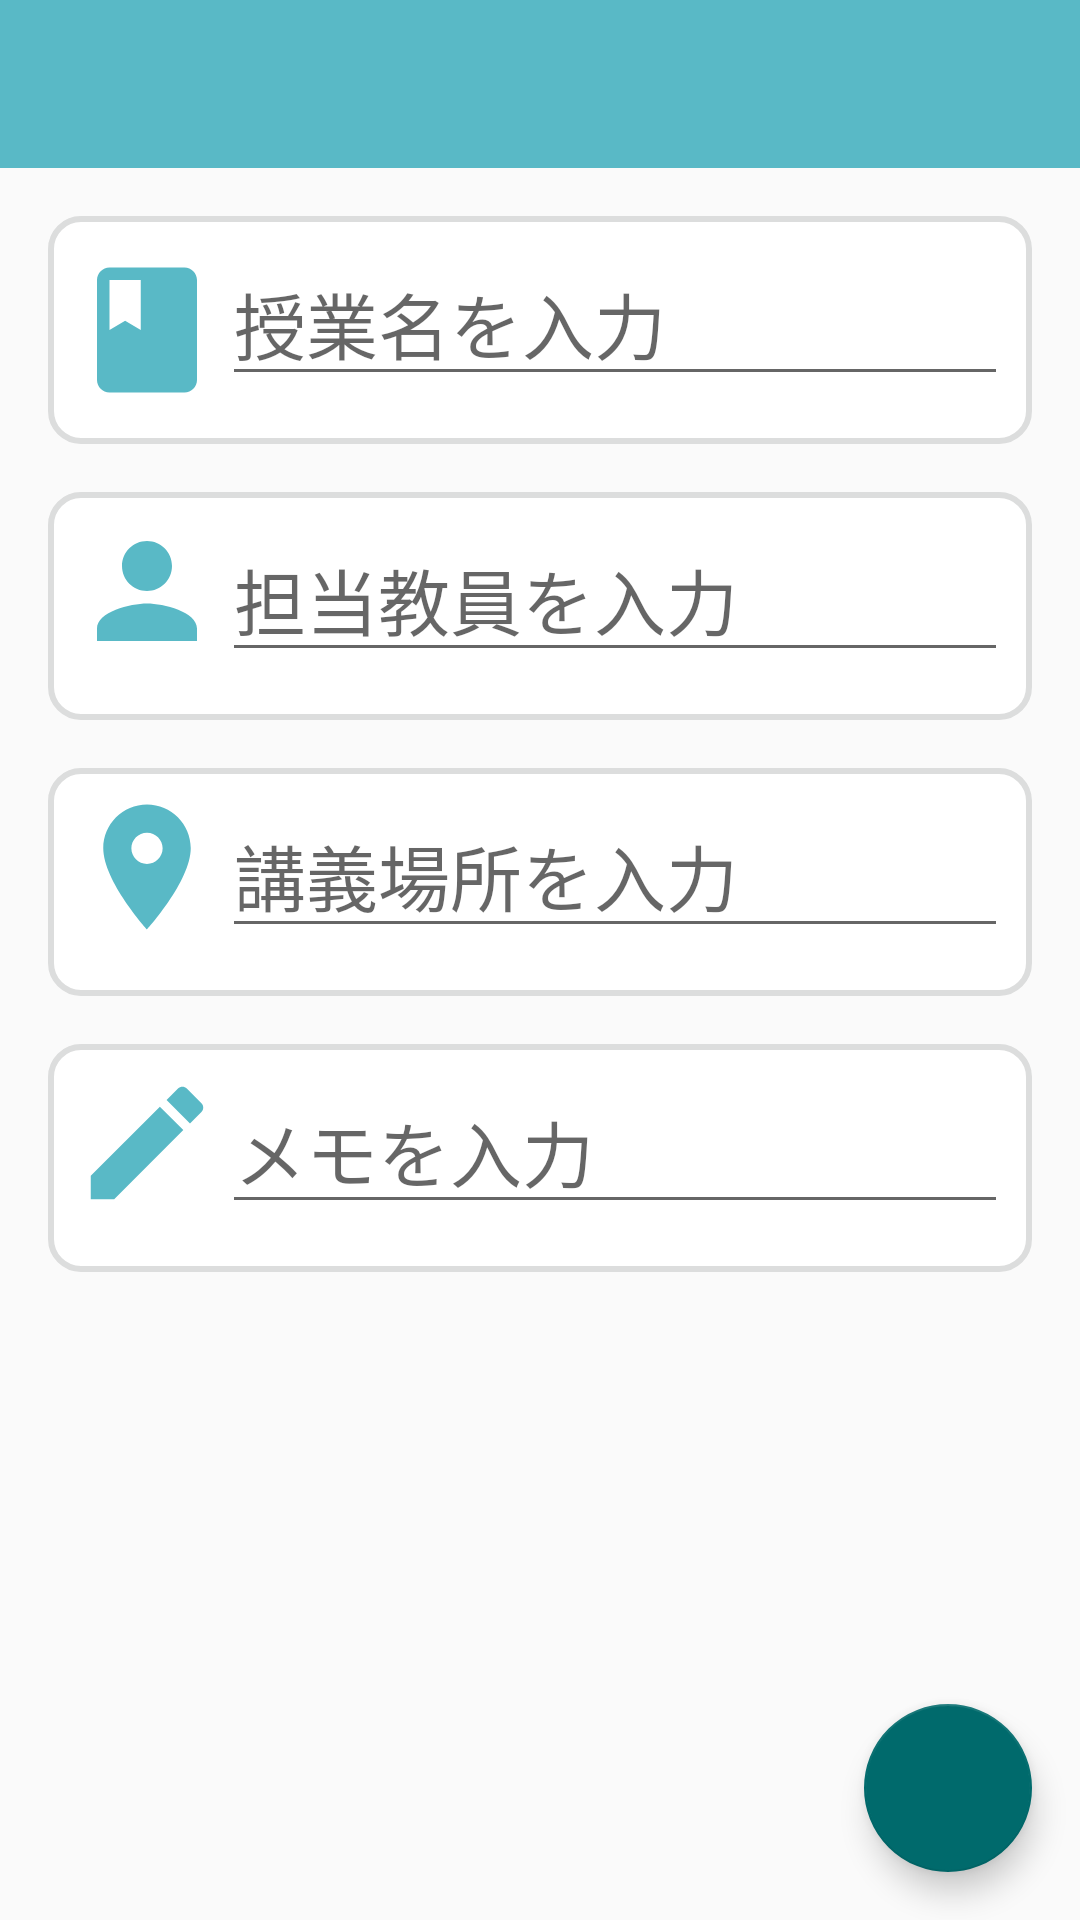

Named icons in this screenshot (1080 × 1920) and their centers, point (x, y):
class: point (147, 330)
edit: point (147, 1143)
person: point (147, 591)
place: point (147, 867)
